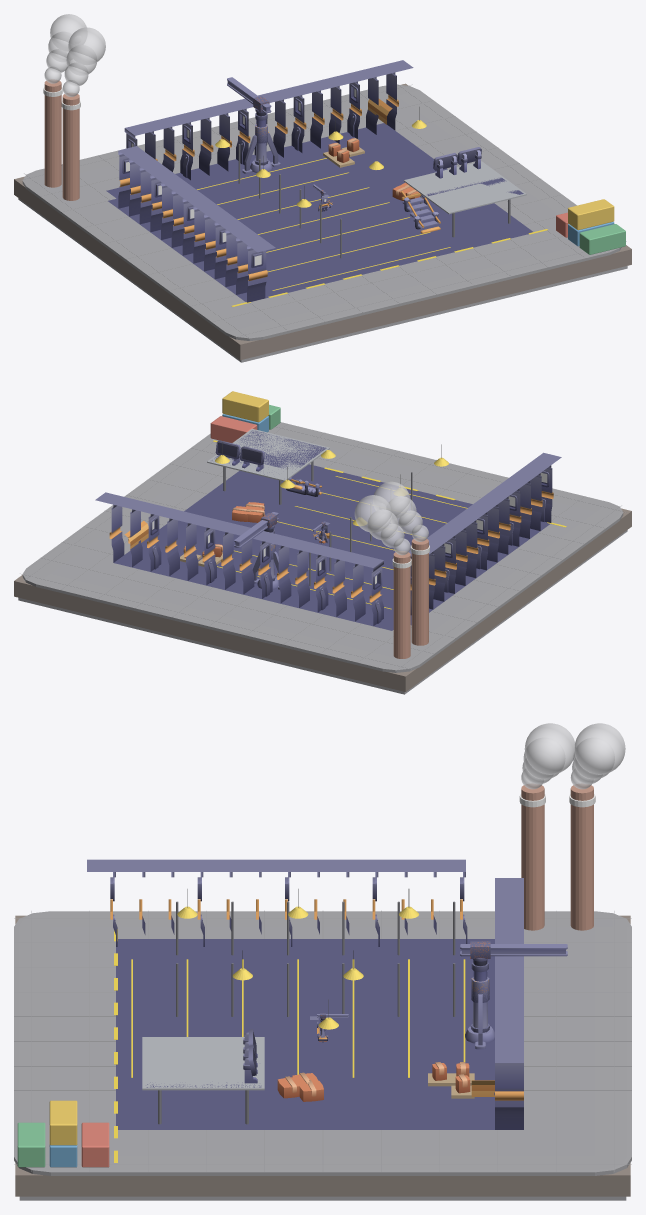
The model's file is factory.glb.
3 renders of one model, top to bottom at view 1: azimuth 30°, elevation 25°; view 2: azimuth 150°, elevation 25°; view 3: azimuth 270°, elevation 25°, orthographic. The views are drawn at different scales.
Parts seen in each view (by area): view 1: box.004, box.005, box, box.006, cyl.022, cyl.024, structure-window.006, crane.001, smoke.007, box.009, box.010, structure-window.004 (+28 smaller); view 2: box.004, box.005, box, box.006, cyl.022, cyl.024, smoke.003, box.010, structure-window.001, structure-window.005, structure-wall.010, structure-wall.004 (+32 smaller); view 3: box.004, box.005, box, cyl.022, cyl.024, box.006, structure-wall.010, smoke.003, smoke.007, crane.001, arm.001, smoke.006 (+18 smaller).
Boxes of the visible parts, bbox=[...] form: box.004: bbox=[22, 84, 621, 340]; box.005: bbox=[14, 83, 631, 360]; box: bbox=[404, 161, 526, 214]; box.006: bbox=[18, 198, 627, 362]; cyl.022: bbox=[44, 80, 61, 187]; cyl.024: bbox=[62, 93, 79, 200]; structure-window.006: bbox=[236, 240, 275, 302]; crane.001: bbox=[242, 112, 280, 173]; smoke.007: bbox=[68, 27, 105, 64]; box.009: bbox=[579, 224, 625, 254]; box.010: bbox=[568, 199, 614, 230]; structure-window.004: bbox=[284, 83, 320, 157]; box.004: bbox=[22, 422, 623, 672]; box.005: bbox=[14, 508, 631, 691]; box: bbox=[207, 428, 329, 481]; box.006: bbox=[18, 530, 627, 694]; cyl.022: bbox=[393, 551, 410, 658]; cyl.024: bbox=[411, 538, 428, 645]; smoke.003: bbox=[354, 495, 392, 532]; box.010: bbox=[222, 391, 268, 422]; structure-window.001: bbox=[355, 556, 393, 630]; structure-window.005: bbox=[132, 501, 169, 576]; structure-wall.010: bbox=[95, 492, 131, 567]; structure-wall.004: bbox=[262, 533, 298, 607]; box.004: bbox=[14, 911, 631, 1175]; box.005: bbox=[15, 915, 630, 1196]; box: bbox=[142, 1037, 264, 1090]; cyl.022: bbox=[570, 784, 593, 930]; cyl.024: bbox=[521, 784, 544, 930]; box.006: bbox=[19, 1196, 626, 1200]; structure-wall.010: bbox=[495, 1050, 523, 1129]; smoke.003: bbox=[574, 723, 625, 774]; smoke.007: bbox=[524, 723, 575, 774]; crane.001: bbox=[465, 960, 494, 1049]; arm.001: bbox=[460, 941, 567, 961]; smoke.006: bbox=[523, 738, 565, 779].
Bounding box in the file's own units: 72.08 × 41.75 × 72.08.
67 materials, 9 textured.
